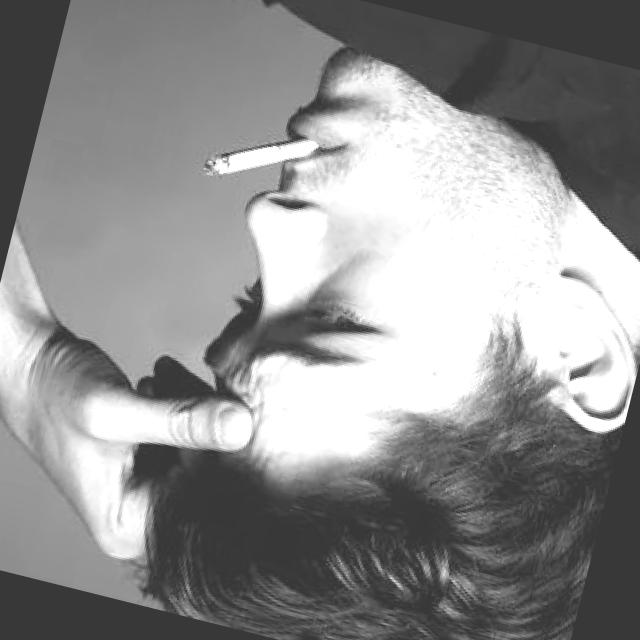cigarette: (198, 114, 322, 201)
